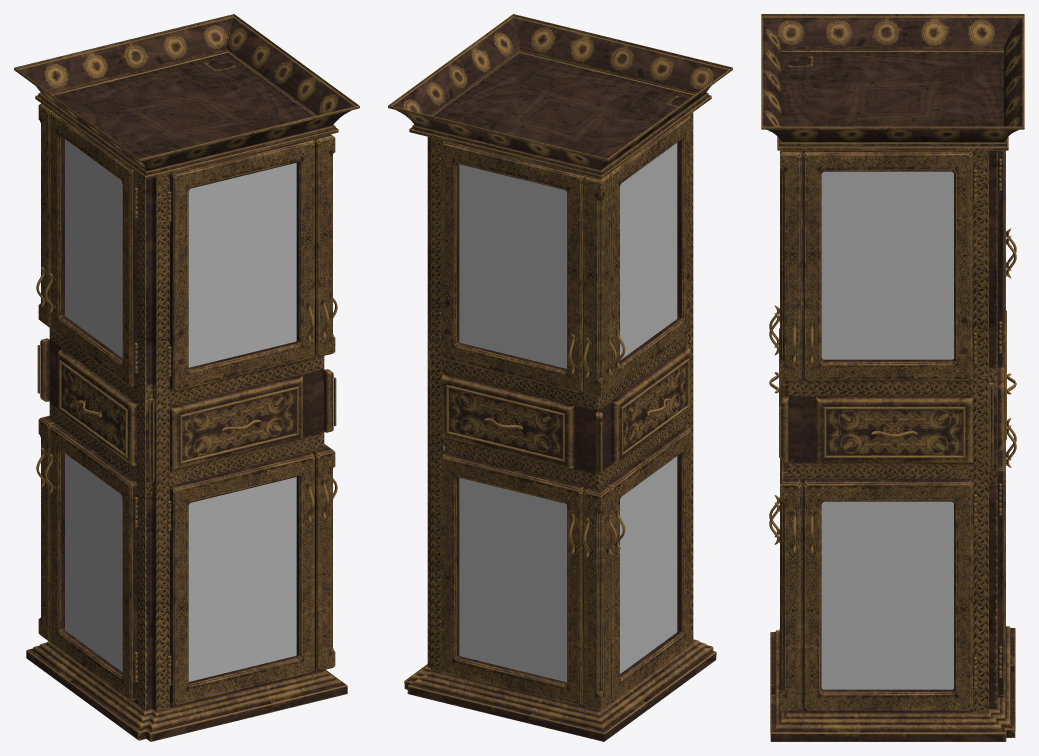
The model's file is SM_Vitrin2DoubleDoorFullGlass.fbx.
3 renders of one model, left to right at view 1: azimuth 30°, elevation 25°; view 2: azimuth 150°, elevation 25°; view 3: azimuth 270°, elevation 25°, orthographic. The views are drawn at different scales.
Parts seen in each view (by area): view 1: SM_Vitrin2DoubleDoorFullGlass_LOD0; view 2: SM_Vitrin2DoubleDoorFullGlass_LOD0; view 3: SM_Vitrin2DoubleDoorFullGlass_LOD0.
Boxes of the visible parts, box(x1,y1,x2,y2) form: SM_Vitrin2DoubleDoorFullGlass_LOD0: box(14, 14, 359, 741); SM_Vitrin2DoubleDoorFullGlass_LOD0: box(388, 14, 732, 741); SM_Vitrin2DoubleDoorFullGlass_LOD0: box(761, 14, 1024, 741).
Size of the model in its own units: 95.89 by 94.57 by 246.
Materials: 2 (1 with a texture image).
